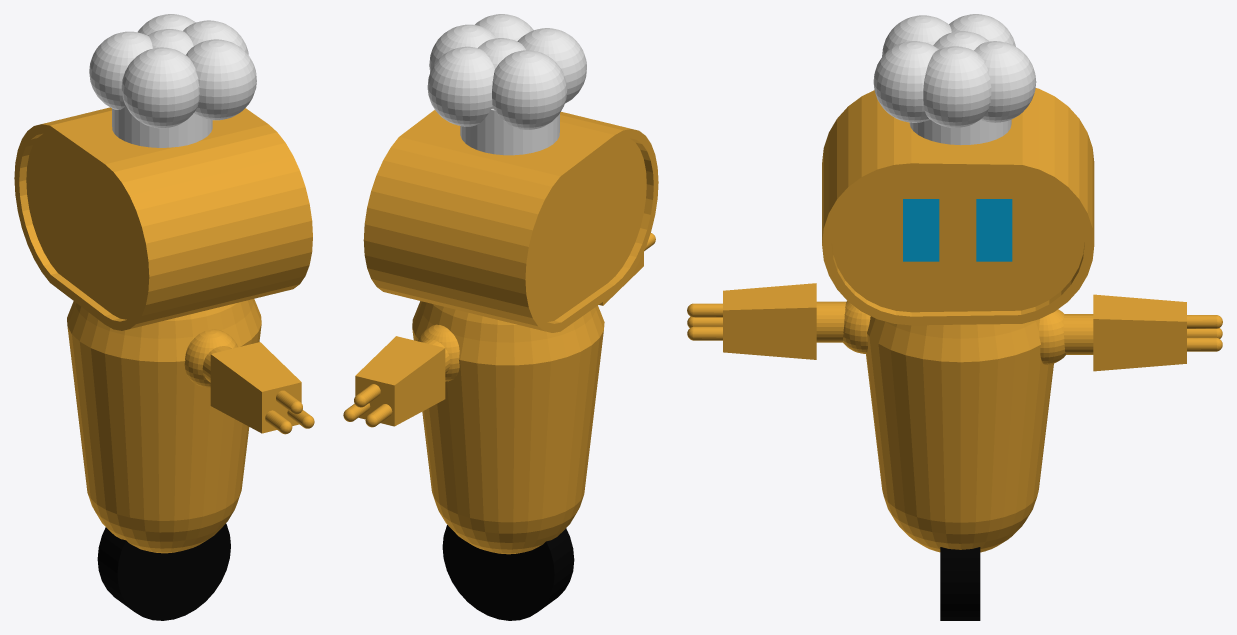
Rendered from chef.fbx.
3 renders of one model, left to right at view 1: azimuth 30°, elevation 25°; view 2: azimuth 150°, elevation 25°; view 3: azimuth 270°, elevation 25°, orthographic. The views are drawn at different scales.
Visible parts, largest first — view 1: head, body, hat, left hand, leg; view 2: head, body, hat, leg, right hand; view 3: head, body, hat, right hand, left hand, eyes, leg.
Boxes of the visible parts, left/top/right/bottom form: head: left=14, top=107, right=312, bottom=330; body: left=67, top=299, right=261, bottom=553; hat: left=89, top=14, right=256, bottom=147; left hand: left=184, top=329, right=314, bottom=434; leg: left=97, top=523, right=230, bottom=620; head: left=363, top=110, right=658, bottom=332; body: left=412, top=301, right=604, bottom=554; hat: left=427, top=14, right=586, bottom=155; leg: left=442, top=525, right=574, bottom=620; right hand: left=343, top=324, right=459, bottom=427; head: left=822, top=88, right=1094, bottom=325; body: left=866, top=316, right=1053, bottom=552; hat: left=873, top=14, right=1036, bottom=145; right hand: left=1039, top=294, right=1222, bottom=371; left hand: left=687, top=283, right=870, bottom=359; eyes: left=903, top=199, right=1012, bottom=261; leg: left=940, top=547, right=980, bottom=620.
Size of the model in its own units: 252 by 826 by 685.
